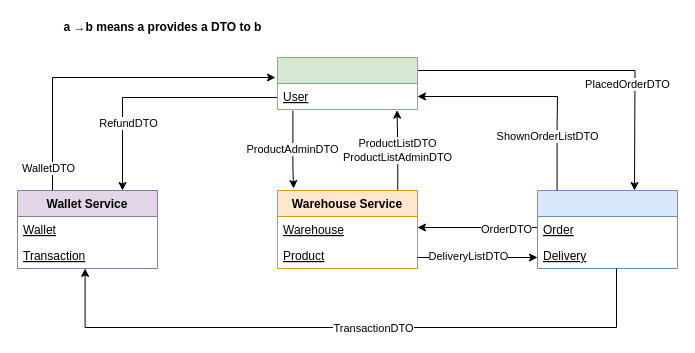
Image size: 695x353. Some labels were removed from this diagram. The shapes that lost their labels are listed below. From the top down, each one's box as (x1, y1, x2, y2) in pixels, then its label:
(276, 56, 418, 110): Catalog Service
(536, 190, 678, 268): Order Service
